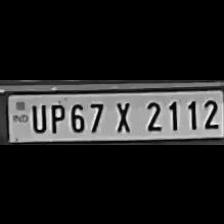1: (162, 97, 182, 130), (182, 96, 198, 130)
2: (138, 96, 164, 132), (199, 96, 221, 130)
6: (66, 98, 86, 132)
7: (86, 98, 106, 132)
P: (46, 99, 66, 133)
U: (28, 100, 46, 132)
X: (109, 98, 135, 132)
